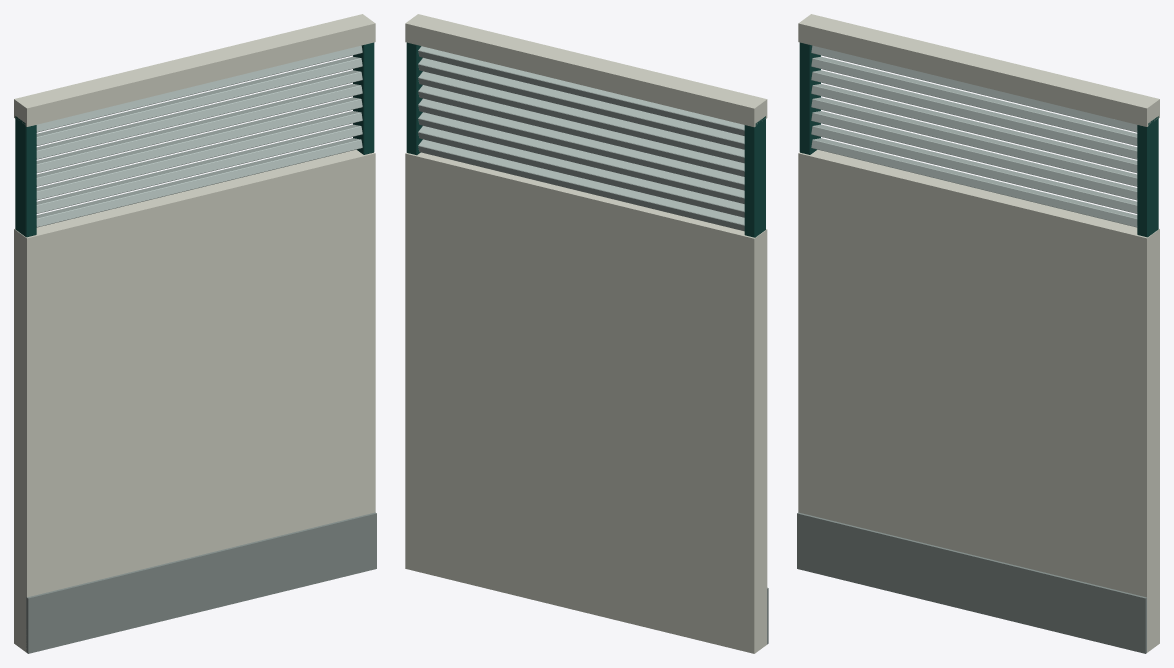
File: wall_gym.glb
The picture shows the model from 3 angles, left to right: view 1: azimuth 30°, elevation 25°; view 2: azimuth 150°, elevation 25°; view 3: azimuth 330°, elevation 25°; orthographic projection.
Visible parts, largest first — view 1: Parede, Rodapé esportivo, Verga, Aleta.001, Aleta, Aleta.004, Aleta.005, Aleta.002, Aleta.003, Aleta.006, Aleta.007, Moldura da veneziana (+1 smaller); view 2: Parede, Verga, Aleta, Aleta.003, Aleta.005, Aleta.004, Aleta.006, Aleta.001, Aleta.002, Aleta.007, Moldura da veneziana, Moldura da veneziana.001; view 3: Parede, Rodapé esportivo, Verga, Aleta.001, Aleta, Aleta.004, Aleta.005, Aleta.002, Aleta.003, Aleta.006, Aleta.007, Moldura da veneziana.001 (+1 smaller).
Boxes of the visible parts, x1=… form: Parede: x1=14, y1=149, x2=375, y2=652; Rodapé esportivo: x1=26, y1=512, x2=376, y2=653; Verga: x1=14, y1=14, x2=375, y2=126; Aleta.001: x1=36, y1=124, x2=362, y2=213; Aleta: x1=36, y1=138, x2=362, y2=227; Aleta.004: x1=36, y1=84, x2=362, y2=172; Aleta.005: x1=36, y1=70, x2=362, y2=159; Aleta.002: x1=36, y1=111, x2=362, y2=200; Aleta.003: x1=36, y1=97, x2=362, y2=186; Aleta.006: x1=36, y1=56, x2=362, y2=145; Aleta.007: x1=36, y1=45, x2=362, y2=132; Moldura da veneziana: x1=15, y1=116, x2=36, y2=237; Parede: x1=405, y1=152, x2=767, y2=653; Verga: x1=405, y1=14, x2=767, y2=127; Aleta: x1=418, y1=139, x2=744, y2=231; Aleta.003: x1=418, y1=98, x2=744, y2=190; Aleta.005: x1=418, y1=71, x2=744, y2=163; Aleta.004: x1=418, y1=85, x2=744, y2=176; Aleta.006: x1=418, y1=58, x2=744, y2=149; Aleta.001: x1=418, y1=126, x2=744, y2=217; Aleta.002: x1=418, y1=112, x2=744, y2=203; Aleta.007: x1=418, y1=46, x2=744, y2=135; Moldura da veneziana: x1=744, y1=116, x2=765, y2=237; Moldura da veneziana.001: x1=406, y1=42, x2=422, y2=155; Parede: x1=798, y1=149, x2=1159, y2=652; Rodapé esportivo: x1=797, y1=512, x2=1146, y2=653; Verga: x1=798, y1=14, x2=1159, y2=126; Aleta.001: x1=811, y1=124, x2=1137, y2=213; Aleta: x1=811, y1=138, x2=1137, y2=227; Aleta.004: x1=811, y1=84, x2=1137, y2=172; Aleta.005: x1=811, y1=70, x2=1137, y2=159; Aleta.002: x1=811, y1=111, x2=1137, y2=200; Aleta.003: x1=811, y1=97, x2=1137, y2=186; Aleta.006: x1=811, y1=56, x2=1137, y2=145; Aleta.007: x1=811, y1=45, x2=1137, y2=132; Moldura da veneziana.001: x1=1137, y1=116, x2=1158, y2=237.
Size of the model in its own units: 2.5 by 3.73 by 0.177.
